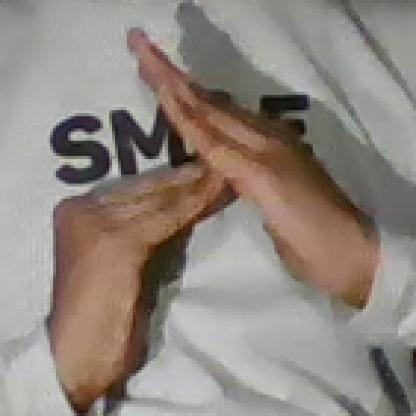Z: (46, 20, 358, 358)
